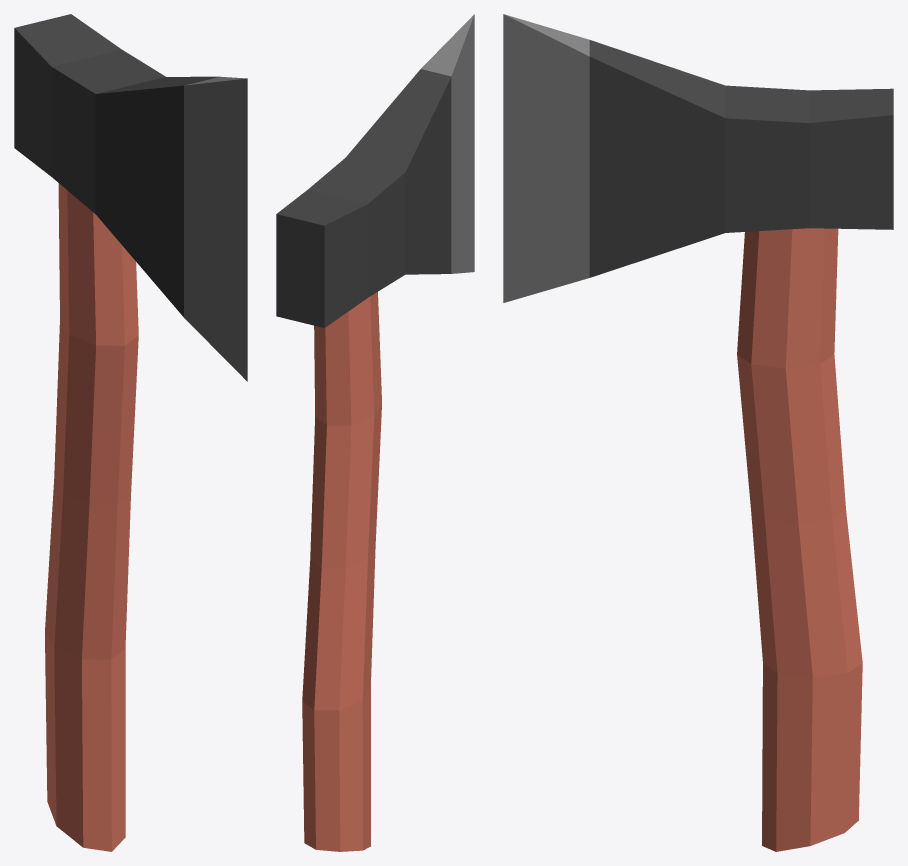
File: axe 1.fbx
3 renders of one model, left to right at view 1: azimuth 30°, elevation 25°; view 2: azimuth 150°, elevation 25°; view 3: azimuth 270°, elevation 25°, orthographic. The views are drawn at different scales.
Parts seen in each view (by area): view 1: Axe; view 2: Axe; view 3: Axe.
Boxes of the visible parts, x1=… form: Axe: x1=14, y1=14, x2=247, y2=851; Axe: x1=276, y1=14, x2=474, y2=851; Axe: x1=503, y1=14, x2=893, y2=851.
Size of the model in its own units: 79.54 by 941 by 400.
